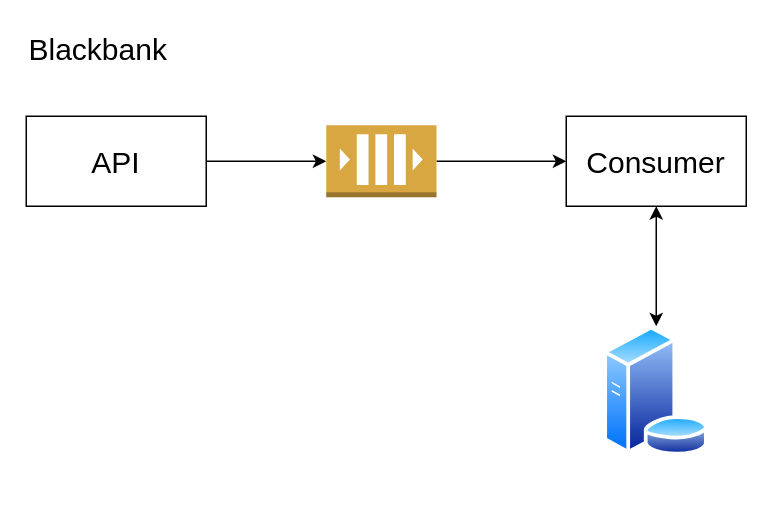
This 773x518 diagram has some shape labels left out. Each missing label, with the centre of its shape:
"Database" belongs at (x=655, y=390).
"Queue" belongs at (x=380, y=160).
